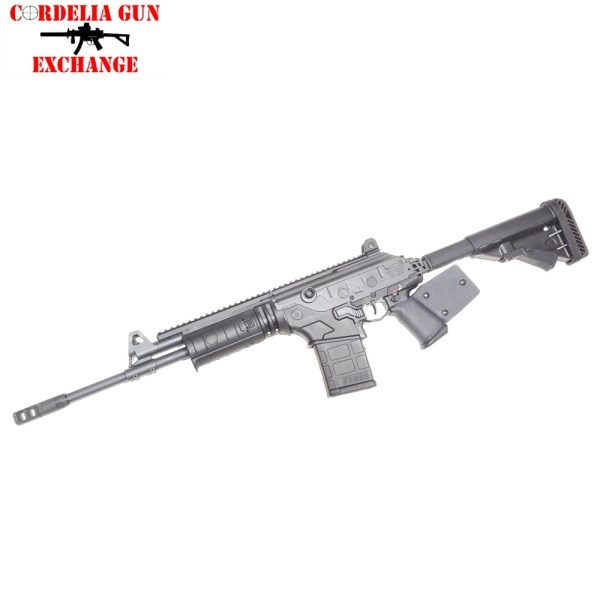ak47: (11, 189, 585, 440)
